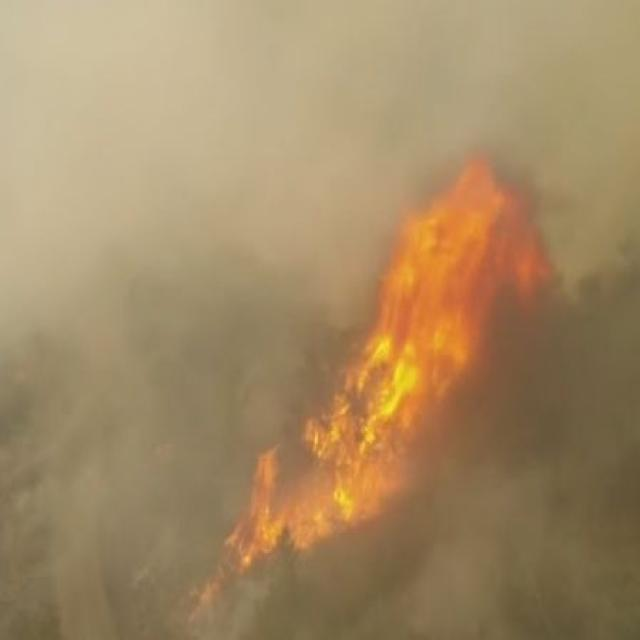Fire: (398, 161, 548, 327), (375, 320, 482, 443), (268, 456, 406, 530), (363, 341, 426, 461), (329, 396, 397, 474)
Smoke: (17, 222, 211, 640), (138, 111, 302, 395), (466, 464, 640, 632), (260, 578, 459, 640)
